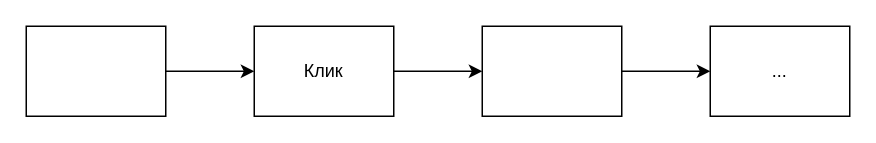
Image size: 876x143. Some labels were removed from this diagram. The shapes that lost their labels are listed below. From the top down, each one's centre as x and y in pixels, then its label:
point (95, 70): Ввод
point (551, 70): Нажатие "Esc"
